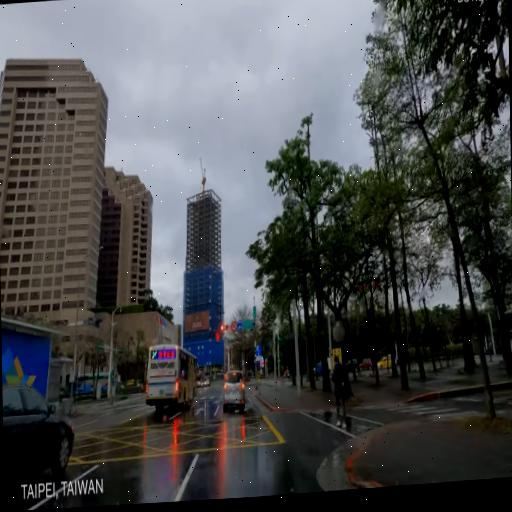Car: (2, 378, 77, 495), (144, 340, 201, 415), (73, 369, 118, 401), (222, 370, 246, 410), (309, 354, 339, 382), (196, 373, 204, 387), (204, 375, 212, 387)
